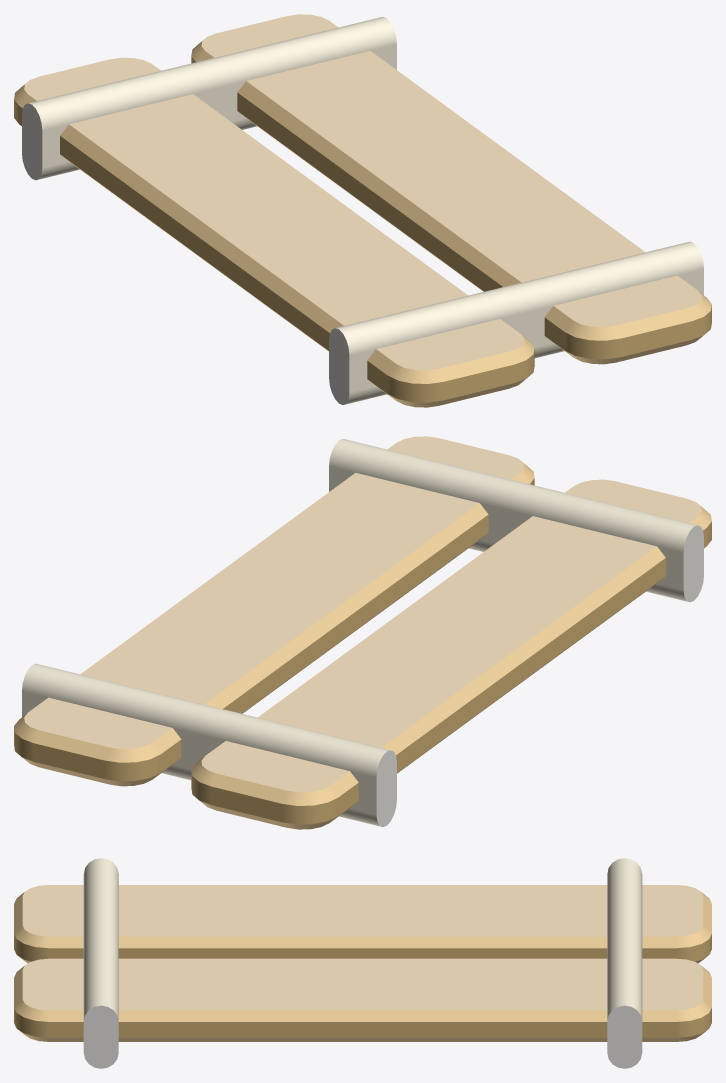
The model's file is narrowBridge.glb.
The picture shows the model from 3 angles, top to bottom: view 1: azimuth 30°, elevation 25°; view 2: azimuth 150°, elevation 25°; view 3: azimuth 270°, elevation 25°; orthographic projection. The views are drawn at different scales.
Parts seen in each view (by area): view 1: Wood_Light, Rope, Wood_Medium, Wood_Dark, Hidden; view 2: Wood_Light, Rope, Wood_Medium, Wood_Dark, Hidden; view 3: Wood_Light, Wood_Medium, Wood_Dark, Rope, Hidden.
Part boxes in pixels (box(x1,y1,x2,y2)): Wood_Light: box(24, 14, 701, 370); Rope: box(28, 17, 703, 404); Wood_Medium: box(14, 41, 711, 407); Wood_Dark: box(14, 56, 711, 402); Hidden: box(22, 103, 349, 404); Wood_Light: box(24, 436, 701, 792); Rope: box(22, 439, 697, 826); Wood_Medium: box(14, 463, 711, 829); Wood_Dark: box(14, 478, 711, 824); Hidden: box(376, 525, 703, 826); Wood_Light: box(22, 885, 703, 1010); Wood_Medium: box(14, 892, 711, 1041); Wood_Dark: box(14, 934, 711, 1037); Rope: box(83, 858, 642, 1020); Hidden: box(83, 1005, 642, 1068).
Bounding box in the file's own units: 1 × 0.2 × 2.
